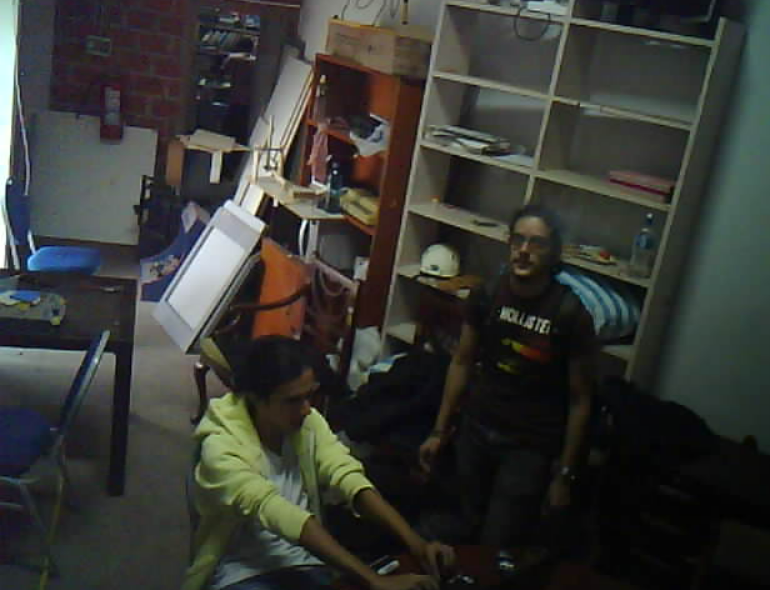person: (377, 165, 631, 575), (141, 320, 470, 590), (183, 20, 279, 144)
